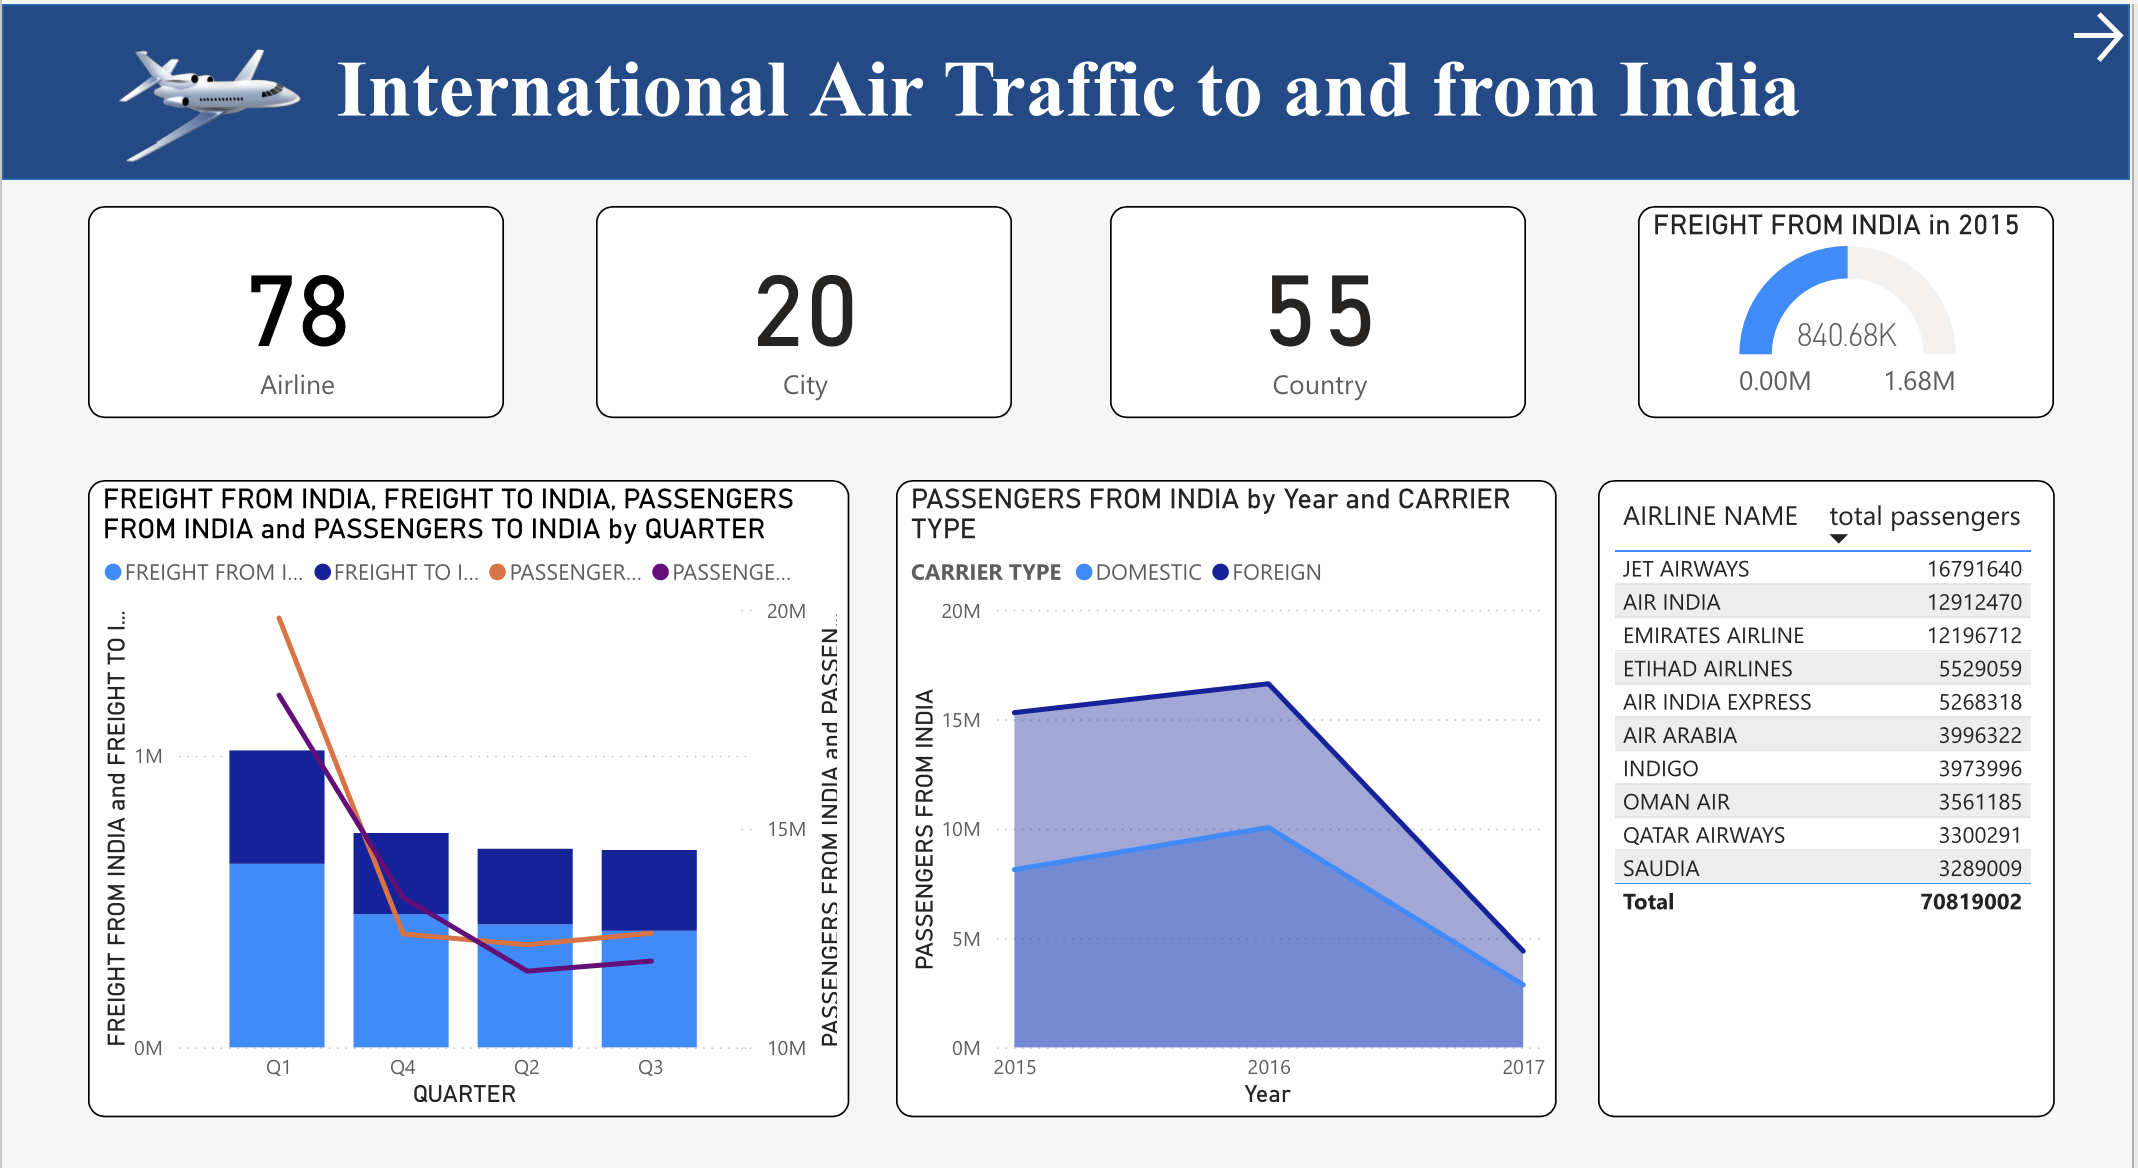

What the dashboard file says about the page in this screenshot:
{"tool":"powerbi","page":{"name":"Air Traffic first Dashboard","canvas":[1280,720],"ordinal":0},"visuals":[{"type":"lineStackedColumnComboChart","fields":{"Y":["Sum(Airlinewise Monthly International Air Traffic.FREIGHT FROM INDIA)","Sum(Airlinewise Monthly International Air Traffic.FREIGHT TO INDIA)"],"Y2":["Sum(Airlinewise Monthly International Air Traffic.PASSENGERS FROM INDIA)","Sum(Airlinewise Monthly International Air Traffic.PASSENGERS TO INDIA)"],"Category":["Airlinewise Monthly International Air Traffic.QUARTER"]},"box":[52.2,285.7,457.3,383.2],"z":0},{"type":"areaChart","fields":{"Category":["Airlinewise Monthly International Air Traffic.Date.Variation.Date Hierarchy.Year","Airlinewise Monthly International Air Traffic.Date.Variation.Date Hierarchy.Quarter","Airlinewise Monthly International Air Traffic.Date.Variation.Date Hierarchy.Month","Airlinewise Monthly International Air Traffic.Date.Variation.Date Hierarchy.Day"],"Y":["Sum(Airlinewise Monthly International Air Traffic.PASSENGERS FROM INDIA)"],"Series":["Carrier type.CARRIER TYPE"]},"box":[537,285.7,396.9,383.2],"z":1000},{"type":"gauge","title":"FREIGHT FROM INDIA in 2015","fields":{"Y":["Sum(Airlinewise Monthly International Air Traffic.FREIGHT FROM INDIA)"]},"box":[983.3,120.9,250,127.7],"z":2000},{"type":"shape","box":[0,0,1278.6,105.8],"z":3000},{"type":"card","fields":{"Values":["Airline.Airline"]},"box":[52.2,120.9,250,127.7],"z":4000,"group":"g1"},{"type":"textbox","box":[196.4,17.9,911.9,70],"z":4000},{"type":"card","fields":{"Values":["Citypairwise Quarterly Freight Air Traffic.City"]},"box":[357.1,120.9,250,127.7],"z":5000,"group":"g1"},{"type":"group","id":"g1","title":"Group 1","box":[52.2,120.9,863.9,127.7],"z":5000},{"type":"card","fields":{"Values":["Countrywise Quarterly Freight Air Traffic.Country"]},"box":[666.1,120.9,250,127.7],"z":6000,"group":"g1"},{"type":"tableEx","fields":{"Values":["Airlinewise Monthly International Air Traffic.AIRLINE NAME","Sum(Airlinewise Monthly International Air Traffic.total passengers)"]},"box":[958.6,285.7,274.7,383.2],"z":6000},{"type":"image","box":[0,0,250,120.9],"z":7000},{"type":"actionButton","box":[1238.6,0,41,39.8],"z":8000}]}

Visuals, with their boxes in screenshot pixels (x1, y1, x2, y2), scaled from the page's 1280x720 canvas onto the 2138x1168 screenshot:
lineStackedColumnComboChart - Sum(Airlinewise Monthly International Air Traffic.FREIGHT FROM INDIA) x Sum(Airlinewise Monthly International Air Traffic.FREIGHT TO INDIA): 87 463 851 1085
areaChart - Airlinewise Monthly International Air Traffic.Date.Variation.Date Hierarchy.Year x Airlinewise Monthly International Air Traffic.Date.Variation.Date Hierarchy.Quarter: 897 463 1560 1085
"FREIGHT FROM INDIA in 2015" gauge: 1642 196 2060 403
shape: 0 0 2136 172
card - Airline.Airline: 87 196 505 403
textbox: 328 29 1851 143
card - Citypairwise Quarterly Freight Air Traffic.City: 596 196 1014 403
"Group 1" group: 87 196 1530 403
card - Countrywise Quarterly Freight Air Traffic.Country: 1113 196 1530 403
tableEx - Airlinewise Monthly International Air Traffic.AIRLINE NAME x Sum(Airlinewise Monthly International Air Traffic.total passengers): 1601 463 2060 1085
image: 0 0 418 196
actionButton: 2069 0 2137 65
